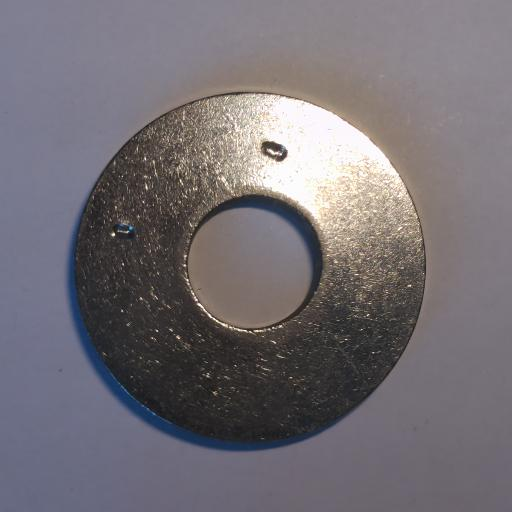circular_cavity: (261, 139, 288, 162), (111, 220, 133, 238)
